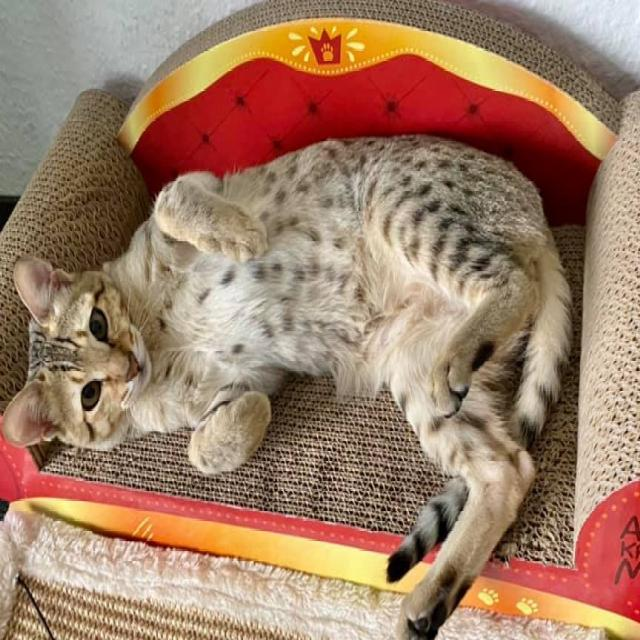Savannah: (0, 129, 573, 640)
